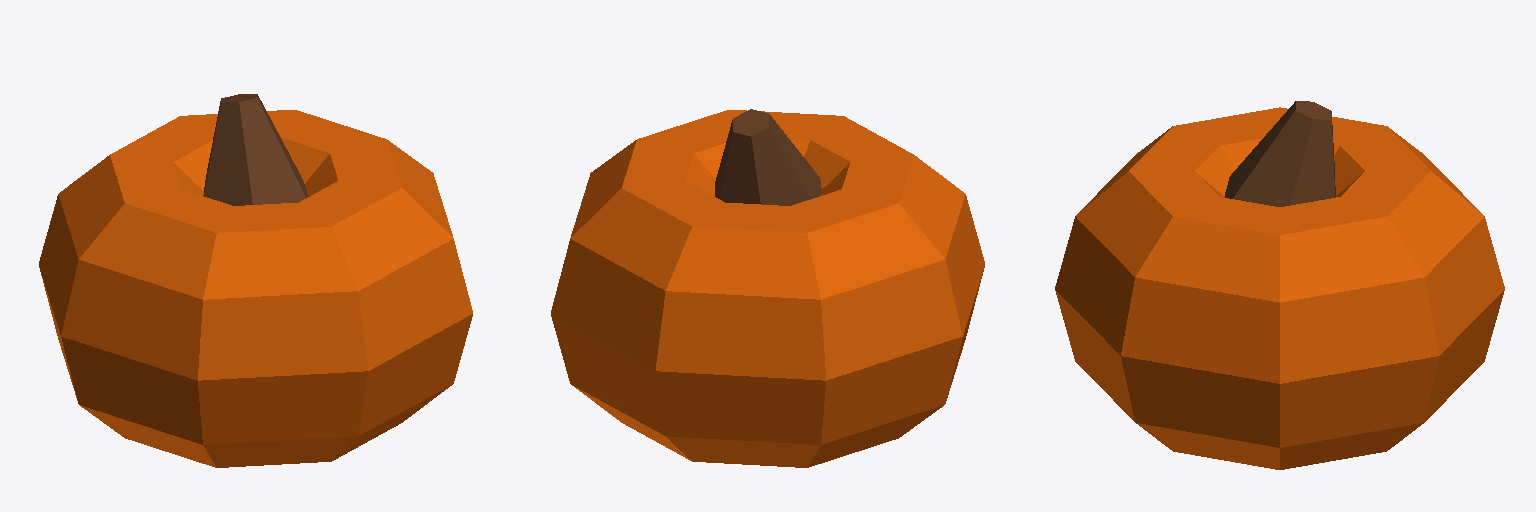
File: pumpkin1.obj
3 renders of one model, left to right at view 1: azimuth 30°, elevation 25°; view 2: azimuth 150°, elevation 25°; view 3: azimuth 270°, elevation 25°, orthographic.
Visible parts, largest first — view 1: Object.1; view 2: Object.1; view 3: Object.1.
Part boxes in pixels (left/top/right/bottom): Object.1: left=39, top=94, right=472, bottom=467; Object.1: left=551, top=109, right=984, bottom=467; Object.1: left=1055, top=101, right=1504, bottom=469.
Size of the model in its own units: 0.84 by 0.619 by 0.84.